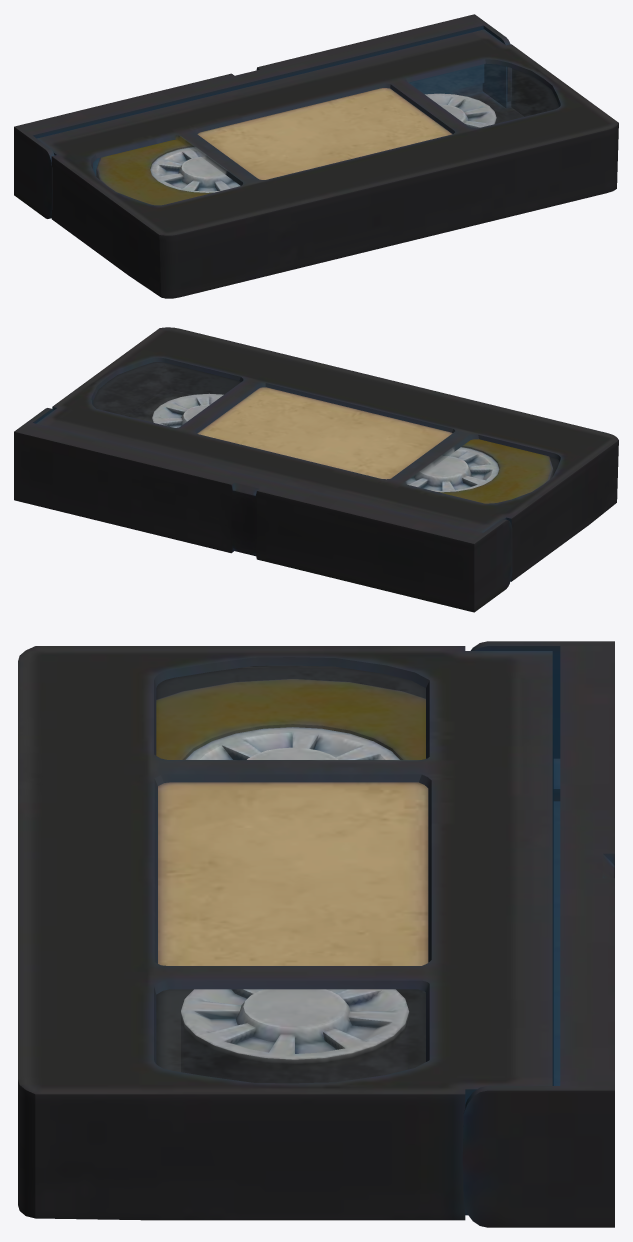
Rendered from vhs.glb.
3 views of the same model, one above another, from view 1: azimuth 30°, elevation 25°; view 2: azimuth 150°, elevation 25°; view 3: azimuth 270°, elevation 25° (orthographic). The views are drawn at different scales.
Parts seen in each view (by area): view 1: VHS_Body_Circle, VHS_Flip_Plane.001, VHS_SupplyReel_Cylinder, VHS_RecieverReel_Cylinder.001; view 2: VHS_Body_Circle, VHS_Flip_Plane.001, VHS_SupplyReel_Cylinder, VHS_RecieverReel_Cylinder.001; view 3: VHS_Body_Circle, VHS_Flip_Plane.001, VHS_RecieverReel_Cylinder.001, VHS_SupplyReel_Cylinder.
Part boxes in pixels (x1,y1,x2,y2): VHS_Body_Circle: (37,29,618,298); VHS_Flip_Plane.001: (14,14,511,218); VHS_SupplyReel_Cylinder: (96,136,240,205); VHS_RecieverReel_Cylinder.001: (425,93,496,128); VHS_Body_Circle: (36,327,618,581); VHS_Flip_Plane.001: (14,408,512,612); VHS_SupplyReel_Cylinder: (406,439,553,503); VHS_RecieverReel_Cylinder.001: (152,393,223,427); VHS_Body_Circle: (18,646,560,1220); VHS_Flip_Plane.001: (462,641,614,1227); VHS_RecieverReel_Cylinder.001: (181,989,409,1083); VHS_SupplyReel_Cylinder: (156,679,425,759).
Size of the model in its own units: 2 by 0.2847 by 1.12.
1 material, 1 textured.
